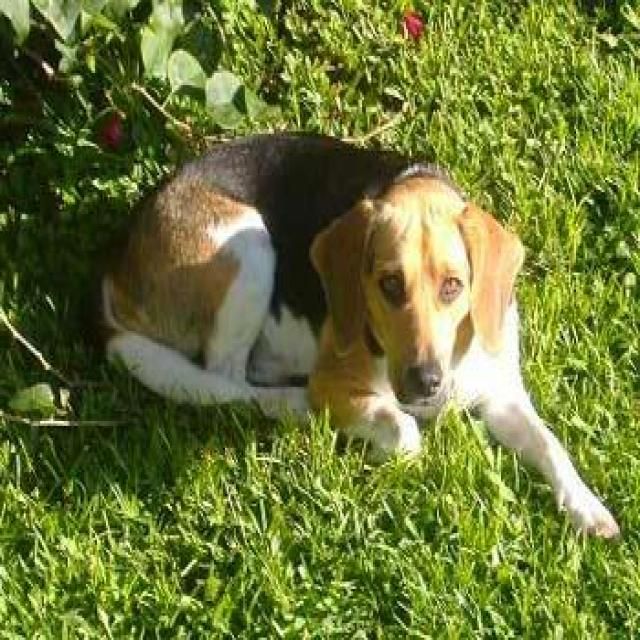beagle: (93, 125, 629, 542)
